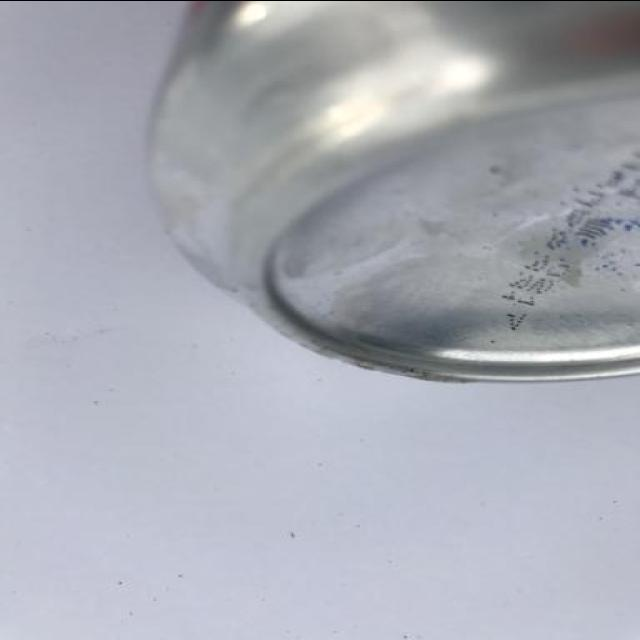Aluminum Can: (96, 2, 640, 458)
